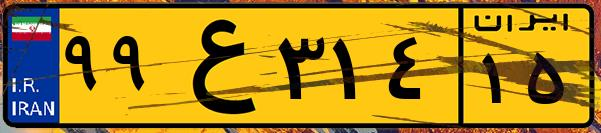1: (330, 28, 385, 110), (475, 38, 525, 113)
3: (270, 28, 330, 110)
4: (385, 28, 445, 110)
5: (525, 38, 570, 115)
9: (57, 26, 110, 100), (110, 28, 158, 98)
ع: (158, 12, 270, 120)
